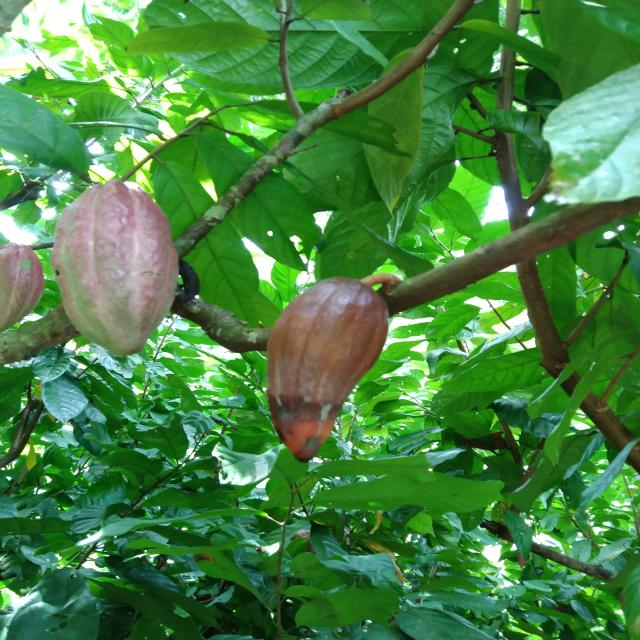Fitoftora: (265, 276, 392, 468)
Sana: (51, 180, 176, 355), (0, 252, 42, 338)
